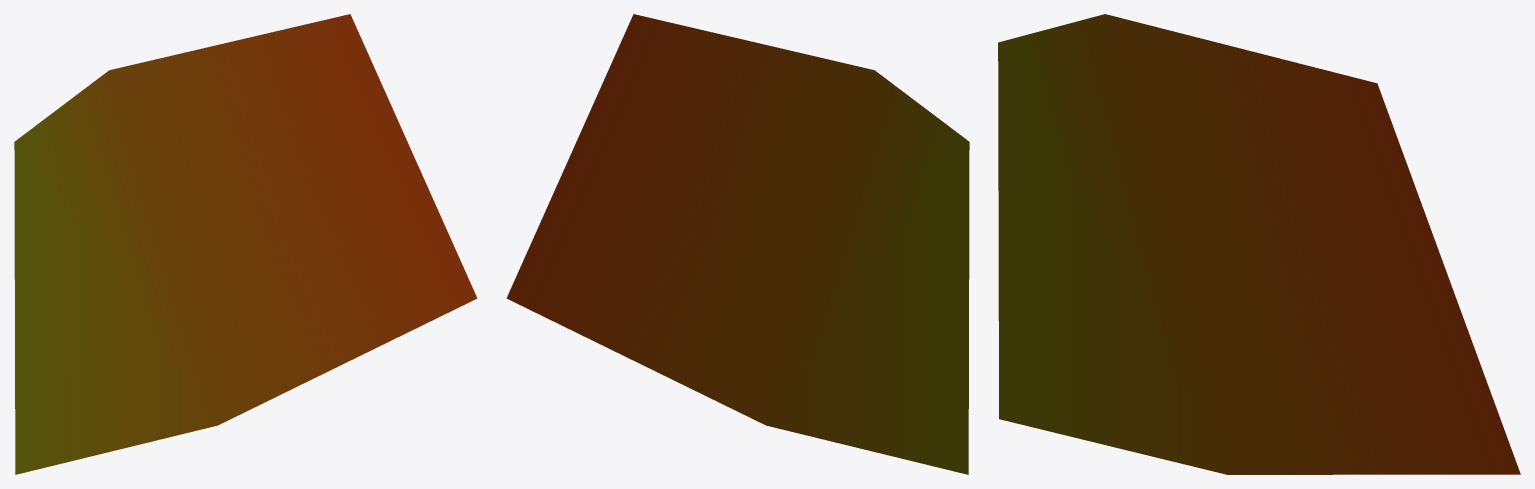
The model's file is Var8_LOD3.fbx.
The picture shows the model from 3 angles, left to right: view 1: azimuth 30°, elevation 25°; view 2: azimuth 150°, elevation 25°; view 3: azimuth 330°, elevation 25°; orthographic projection. The views are drawn at different scales.
Parts seen in each view (by area): view 1: _b6f5_Var8_LOD3; view 2: _b6f5_Var8_LOD3; view 3: _b6f5_Var8_LOD3.
Part boxes in pixels (<box>): _b6f5_Var8_LOD3: <box>14,14,477,474</box>; _b6f5_Var8_LOD3: <box>506,14,969,474</box>; _b6f5_Var8_LOD3: <box>998,14,1520,474</box>.
Size of the model in its own units: 103 by 81.24 by 4.77e-07.
